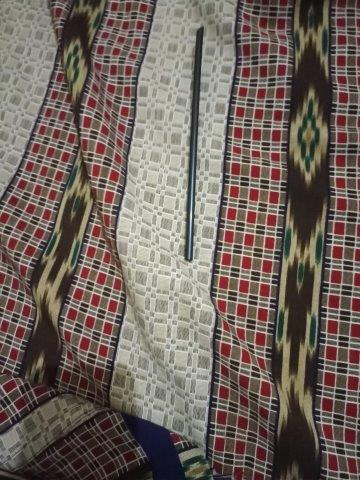sedotan: (185, 27, 204, 261)
